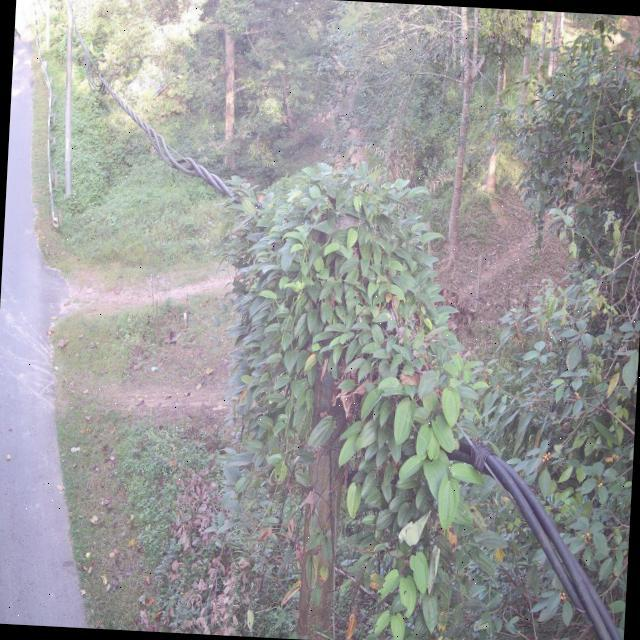critical vegetation: (196, 140, 498, 585)
